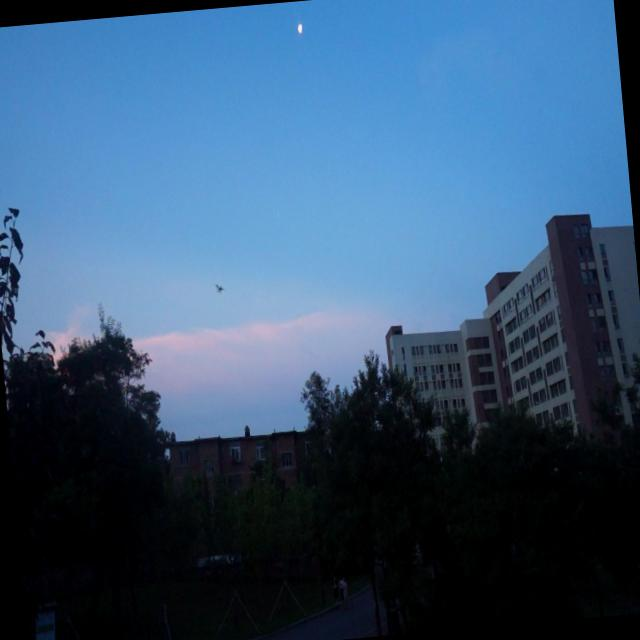drone: (214, 276, 226, 298)
